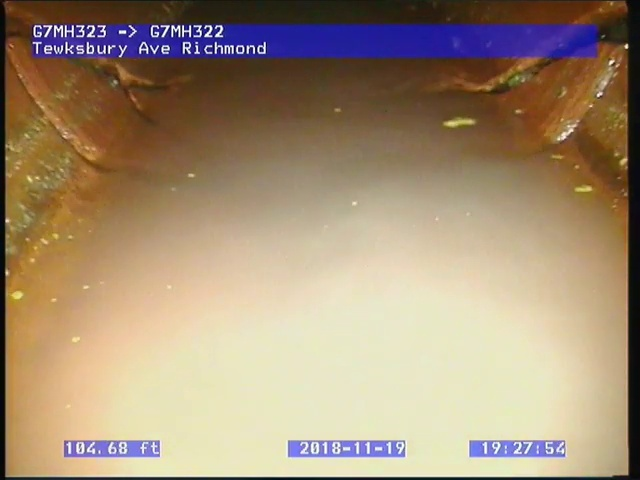crack: (8, 16, 169, 134), (477, 21, 626, 97)
